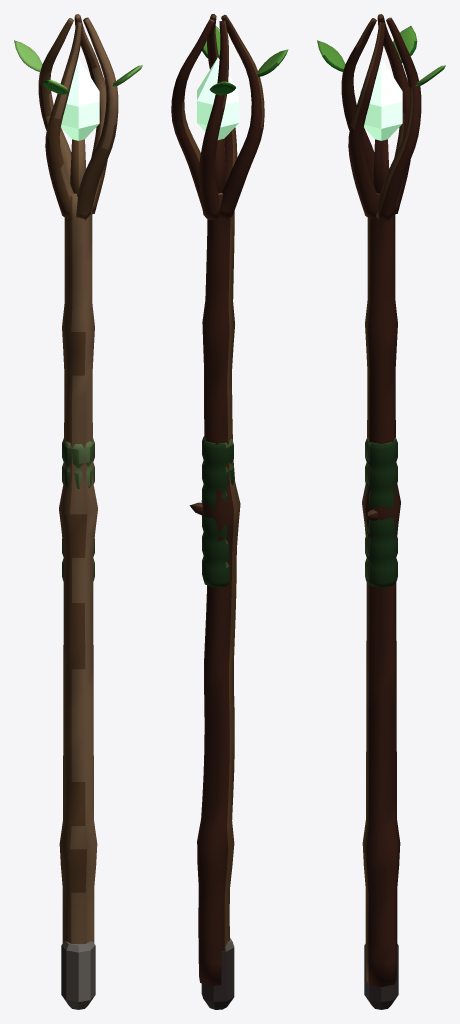
The model's file is st_oak_staff.glb.
The picture shows the model from 3 angles, left to right: view 1: azimuth 90°, elevation 25°; view 2: azimuth 210°, elevation 25°; view 3: azimuth 270°, elevation 25°; orthographic projection.
Visible parts, largest first — view 1: Weapon; view 2: Weapon; view 3: Weapon.
Boxes of the visible parts, x1,y1,x2,y2 form: Weapon: (14, 14, 142, 1009); Weapon: (171, 14, 288, 1009); Weapon: (317, 14, 445, 1009).
Bounding box in the file's own units: 0.171 × 1.79 × 0.212.
